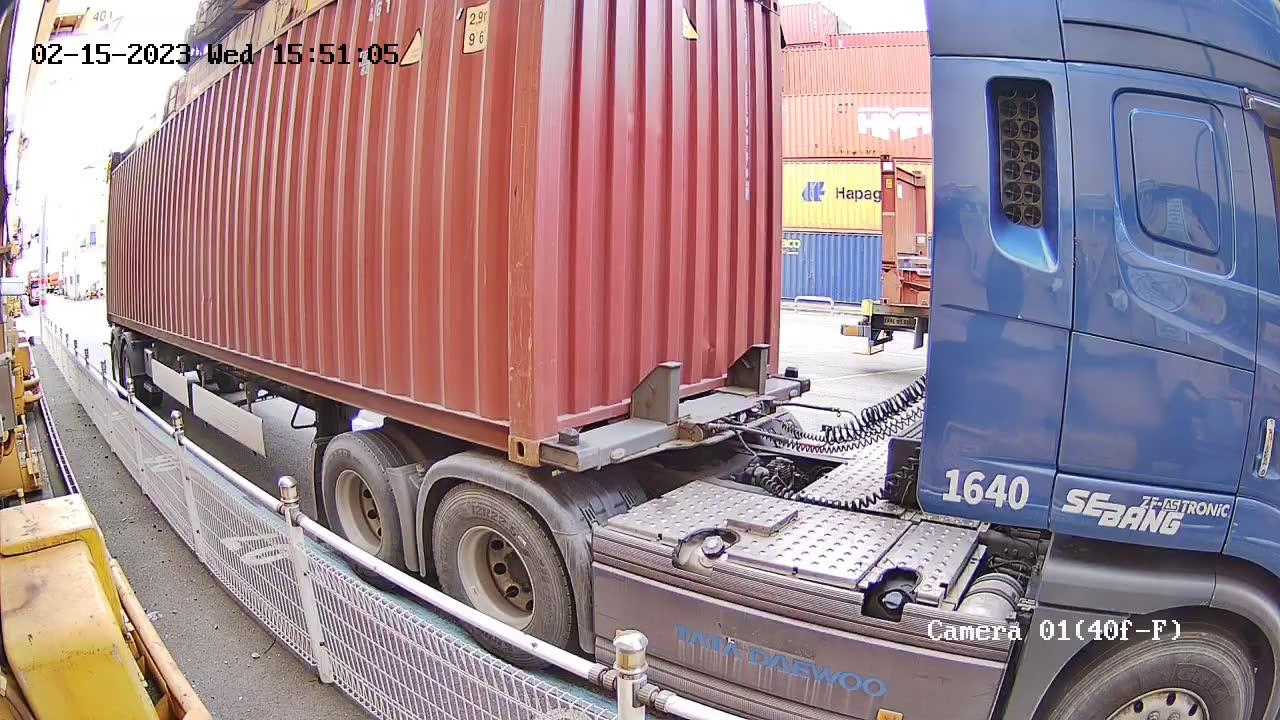Chassis: (544, 370, 813, 462)
Hole_R: (477, 400, 537, 465)
Tire: (429, 484, 575, 649), (322, 438, 398, 564)
